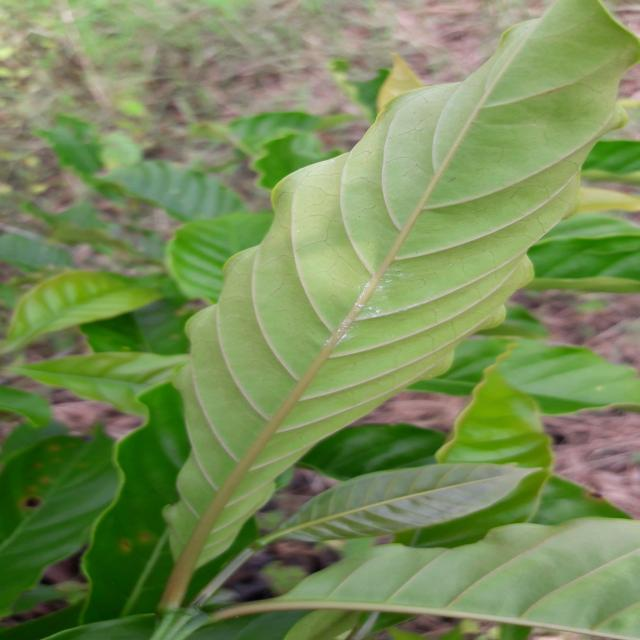Sanas: (158, 0, 640, 611)
